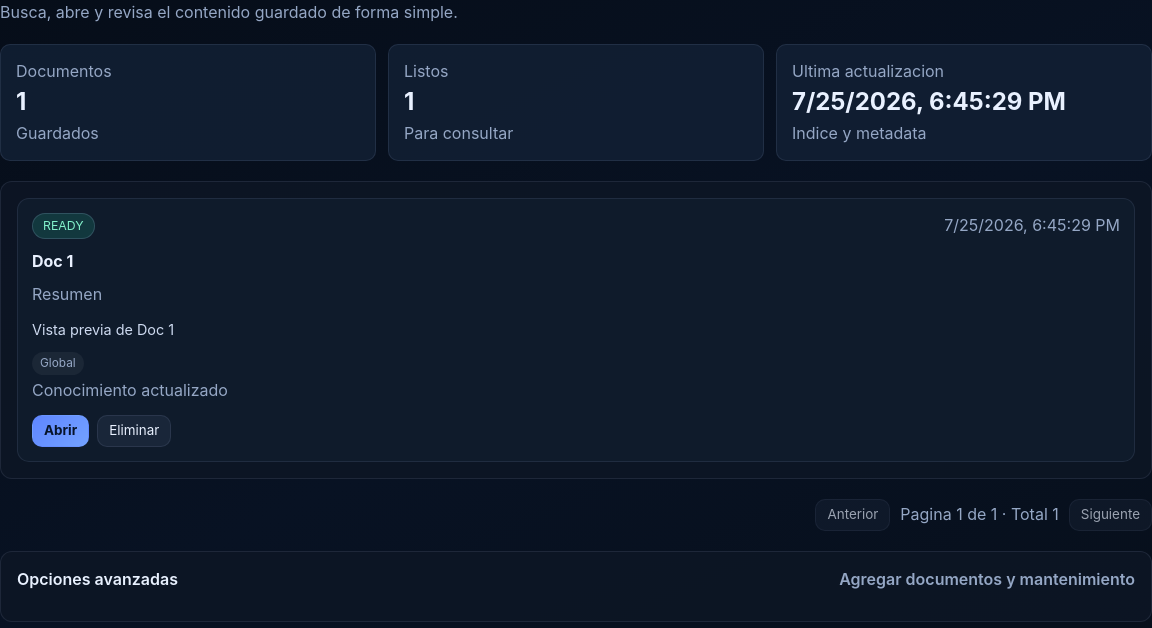
Test: DocumentsPage › generates a document
Expected: the heading "Doc 1" is shown, [32,251,74,271]
Click the heading "Opciones avanzadas" at (97,579), box [17,568,1135,591]
(page scrolled)
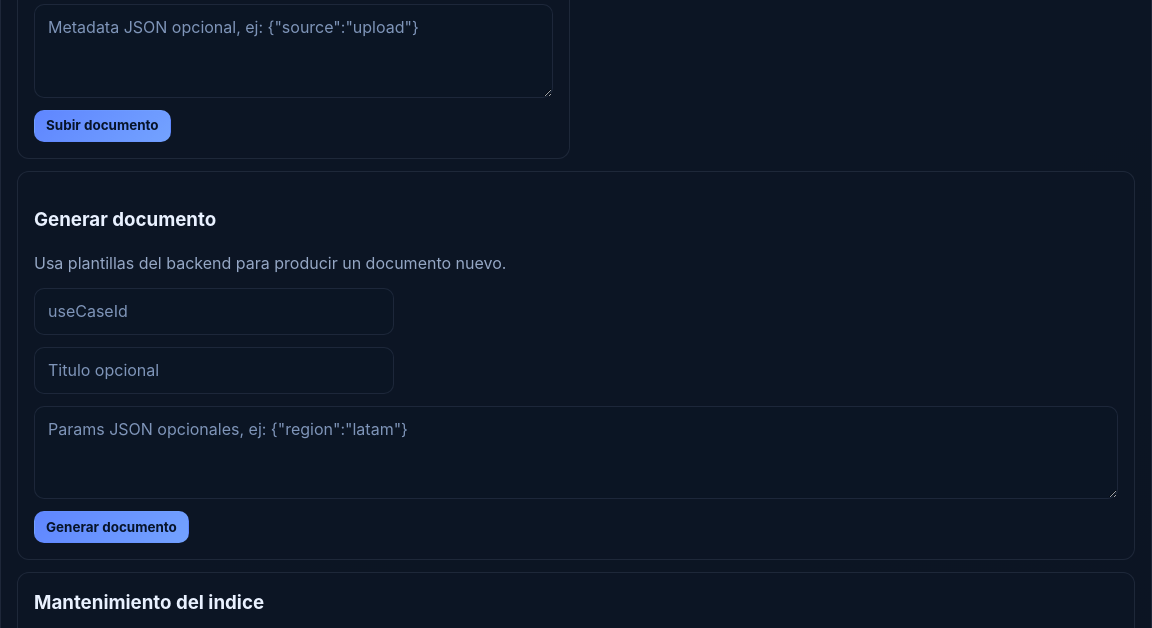
Type "sample" into the field with placeholder "useCaseId" at (214,311), box [34,288,394,335]
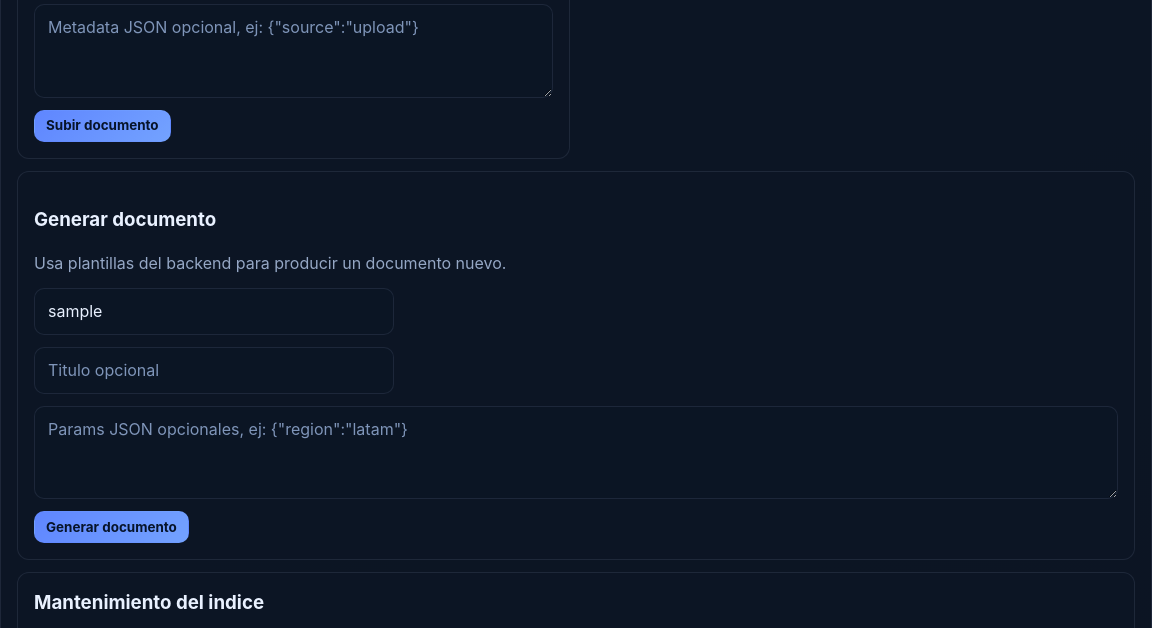
Type "Generated UI" into the field with placeholder "Titulo opcional" at (214,370), box [34,347,394,394]
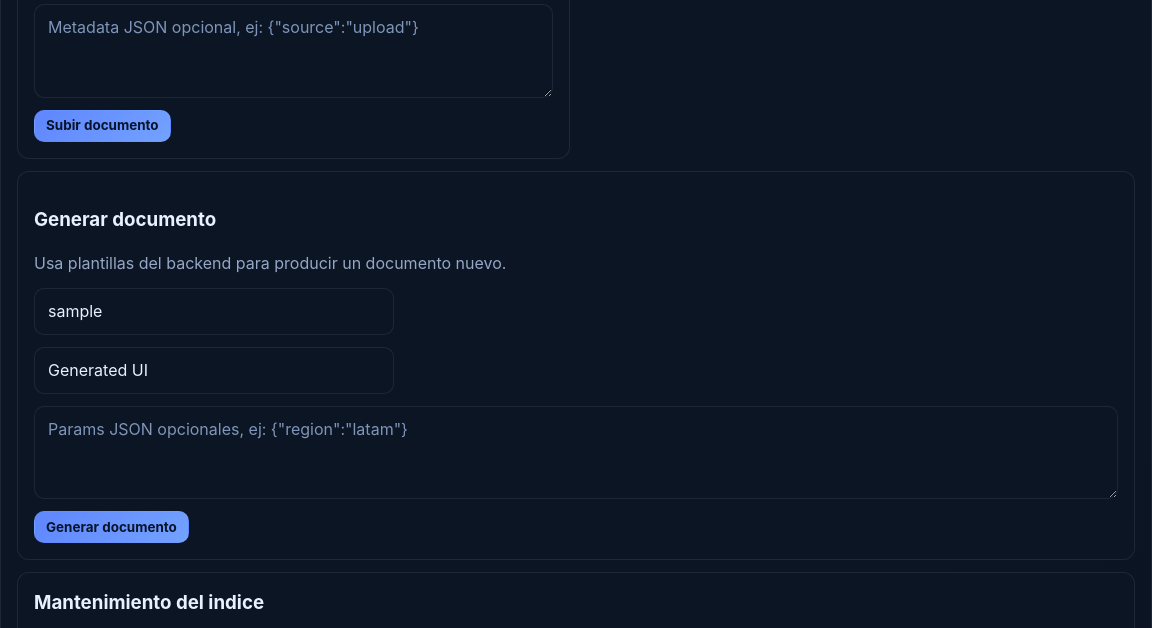
Click the button "Generar documento" at (111,527), box [34,511,189,543]
(page scrolled)
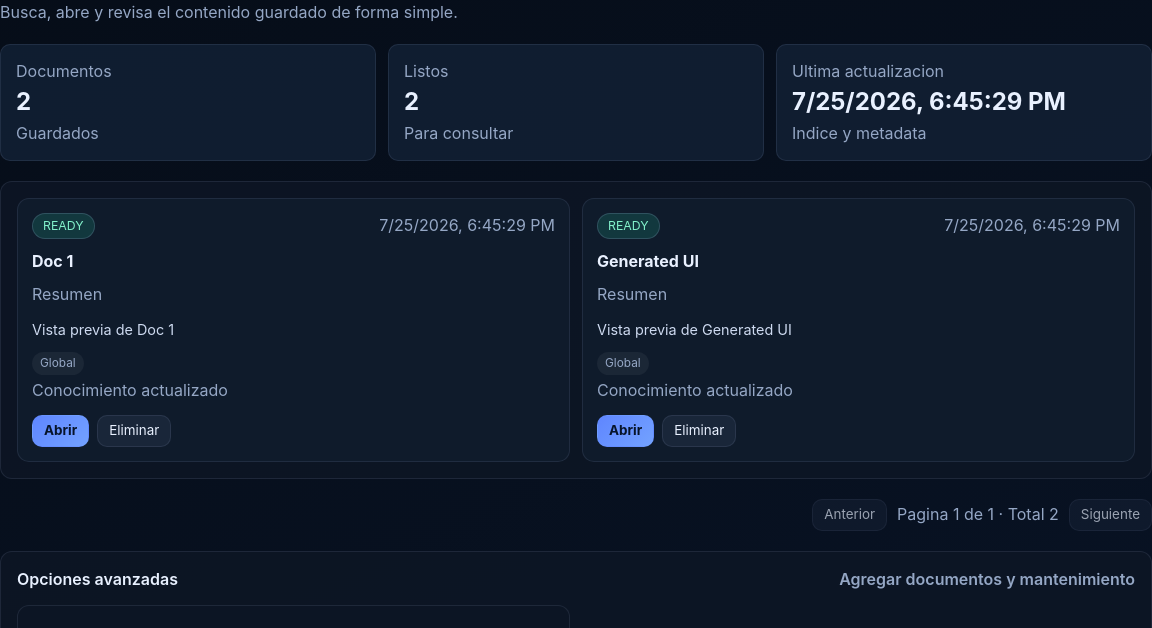
Expected: the heading "Generated UI" is shown, [597,251,699,271]
